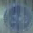bike lane: (0, 2, 31, 32)
